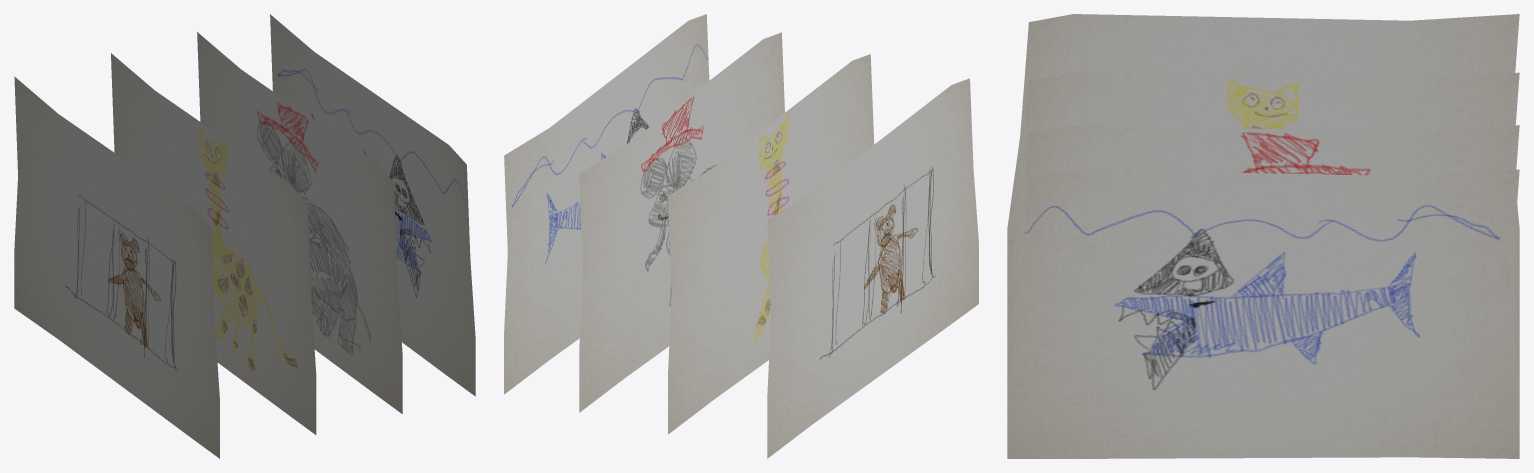
The model's file is Drawings_Sam.fbx.
3 views of the same model, side by side, from view 1: azimuth 30°, elevation 25°; view 2: azimuth 150°, elevation 25°; view 3: azimuth 270°, elevation 25° (orthographic). The views are drawn at different scales.
Visible parts, largest first — view 1: pPlane9, pPlane10, pPlane11, pPlane12; view 2: pPlane9, pPlane10, pPlane11, pPlane12; view 3: pPlane12, pPlane9, pPlane10, pPlane11.
Part boxes in pixels (x1,y1,x2,y2): pPlane9: (14, 76, 219, 458); pPlane10: (111, 53, 316, 434); pPlane11: (197, 32, 402, 413); pPlane12: (270, 14, 475, 396); pPlane9: (767, 78, 978, 458); pPlane10: (668, 54, 874, 434); pPlane11: (579, 32, 784, 412); pPlane12: (504, 14, 709, 394); pPlane12: (1007, 169, 1519, 458); pPlane9: (1007, 14, 1519, 285); pPlane10: (1007, 72, 1519, 338); pPlane11: (1007, 125, 1519, 382).
Size of the model in its own units: 0.5007 by 0.4347 by 0.6972.
